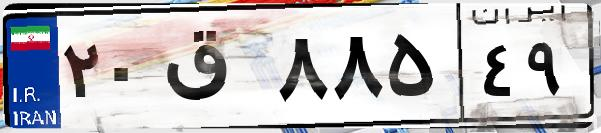0: (110, 28, 158, 98)
2: (57, 26, 110, 100)
4: (475, 38, 525, 113)
5: (385, 28, 445, 110)
8: (270, 28, 330, 110), (330, 28, 385, 110)
9: (525, 38, 570, 115)
ق: (158, 20, 270, 120)
